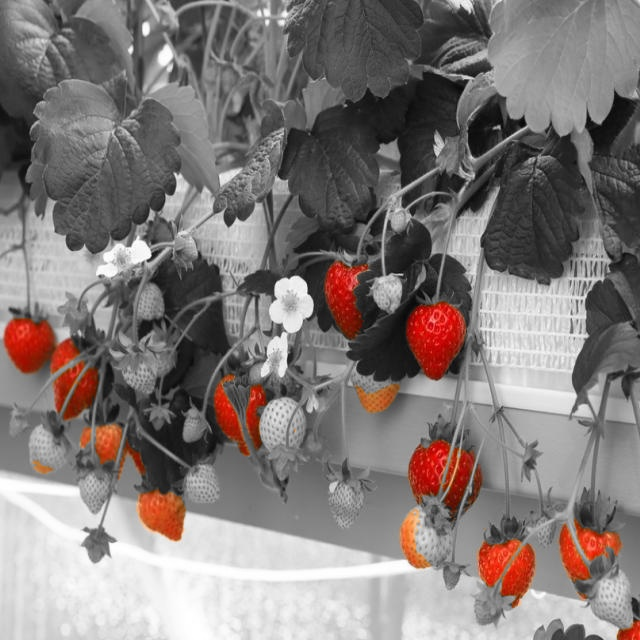ripe: (408, 432, 486, 524), (559, 510, 618, 601), (405, 297, 467, 380), (322, 255, 378, 338), (54, 338, 111, 416), (209, 372, 265, 447), (477, 532, 533, 604), (134, 471, 184, 544), (4, 310, 56, 378), (76, 420, 129, 480)
unripe: (589, 560, 634, 632), (321, 467, 366, 535), (110, 341, 160, 402), (260, 398, 306, 460), (181, 457, 227, 514), (30, 418, 72, 478), (130, 330, 178, 376), (363, 268, 403, 318), (174, 400, 214, 443), (470, 576, 504, 624), (76, 466, 109, 514), (134, 281, 166, 327), (266, 448, 300, 486), (172, 228, 202, 270), (384, 207, 412, 239), (534, 504, 552, 553), (8, 401, 28, 436)
